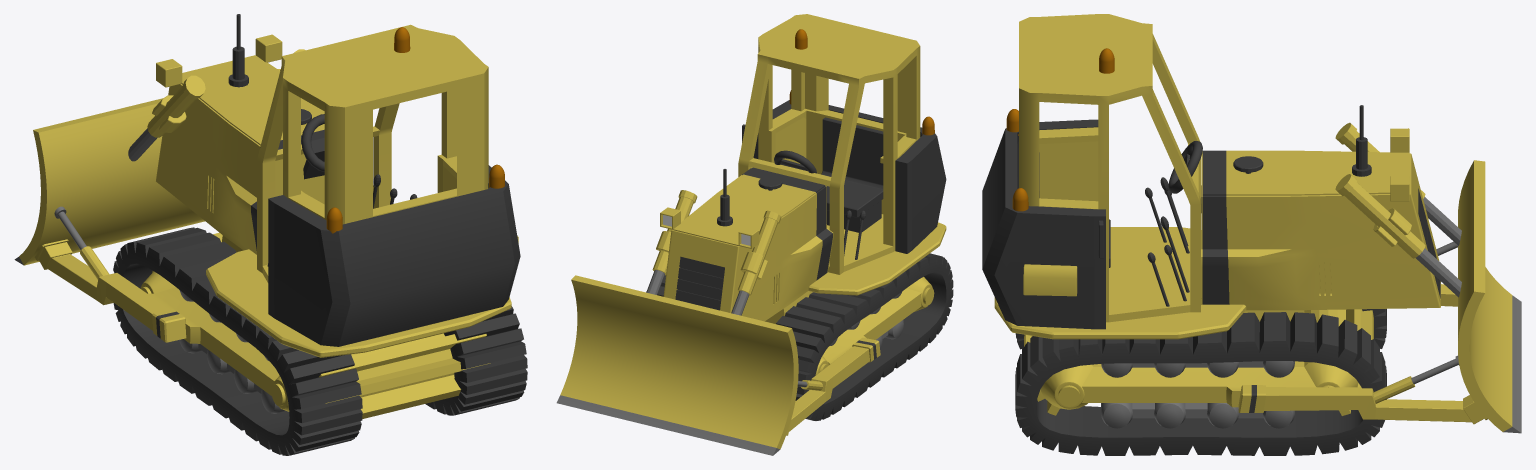
3 views of the same model, side by side, from view 1: azimuth 30°, elevation 25°; view 2: azimuth 150°, elevation 25°; view 3: azimuth 270°, elevation 25° (orthographic). The views are drawn at different scales.
Visible parts, largest first — view 1: back, pasted__cabine1, track1:pPipe2, ladle, front1, track_foundament, track:pPipe2, down_panel, pCube7, polySurface10, polySurface14, steering_wheel (+3 smaller); view 2: ladle, pasted__cabine1, front1, track1:pPipe2, back, sit, down_panel, track_foundament, pCube7, vent, polySurface14, polySurface11 (+3 smaller); view 3: front1, pasted__cabine1, track:pPipe2, back, ladle, track_foundament, pCube6, down_panel, polySurface8, polySurface7, polySurface11, side_stuff (+7 smaller).
Part boxes in pixels (left/top/right/bottom): back: left=268, top=165, right=520, bottom=346; pasted__cabine1: left=257, top=24, right=488, bottom=282; track1:pPipe2: left=113, top=227, right=362, bottom=455; ladle: left=14, top=98, right=204, bottom=265; front1: left=156, top=55, right=469, bottom=338; track_foundament: left=140, top=232, right=490, bottom=418; track:pPipe2: left=425, top=306, right=527, bottom=415; down_panel: left=206, top=249, right=511, bottom=357; pCube7: left=34, top=239, right=186, bottom=342; polySurface10: left=179, top=339, right=286, bottom=413; polySurface14: left=147, top=75, right=205, bottom=137; steering_wheel: left=301, top=114, right=324, bottom=179; ladle: left=556, top=275, right=798, bottom=455; pasted__cabine1: left=738, top=14, right=920, bottom=274; front1: left=663, top=167, right=833, bottom=321; track1:pPipe2: left=776, top=253, right=953, bottom=420; back: left=753, top=100, right=946, bottom=253; sit: left=821, top=117, right=883, bottom=232; down_panel: left=808, top=222, right=946, bottom=295; track_foundament: left=765, top=277, right=934, bottom=374; pCube7: left=786, top=337, right=880, bottom=435; vent: left=675, top=256, right=724, bottom=310; polySurface14: left=737, top=210, right=781, bottom=295; polySurface11: left=652, top=190, right=697, bottom=275; front1: left=1201, top=150, right=1440, bottom=310; pasted__cabine1: left=1019, top=14, right=1200, bottom=322; track:pPipe2: left=1015, top=312, right=1386, bottom=455; back: left=982, top=119, right=1105, bottom=329; ladle: left=1458, top=160, right=1521, bottom=433; track_foundament: left=1024, top=259, right=1373, bottom=415; pCube6: left=1238, top=385, right=1487, bottom=424; down_panel: left=994, top=227, right=1246, bottom=339; polySurface8: left=1101, top=403, right=1294, bottom=428; polySurface7: left=1101, top=361, right=1294, bottom=377; polySurface11: left=1335, top=174, right=1425, bottom=258; side_stuff: left=1023, top=264, right=1077, bottom=296.
Bounding box in the file's own units: 16.13 × 21.12 × 27.93.
